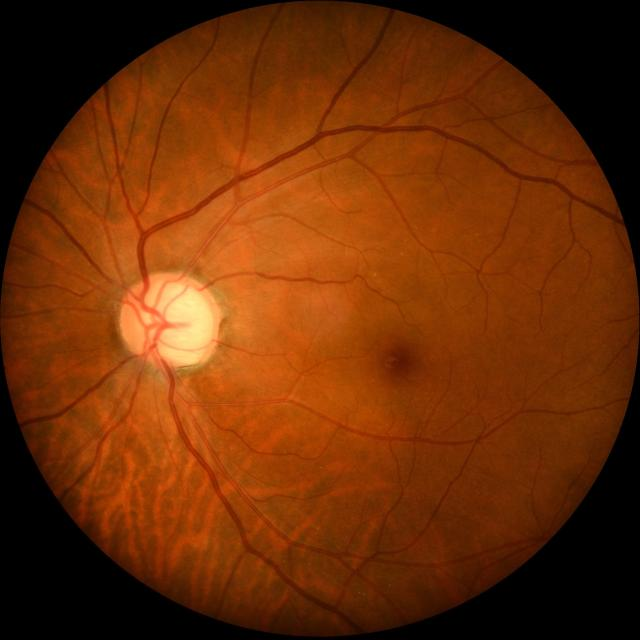OC: (142, 285, 212, 360)
OD: (118, 271, 220, 368)
